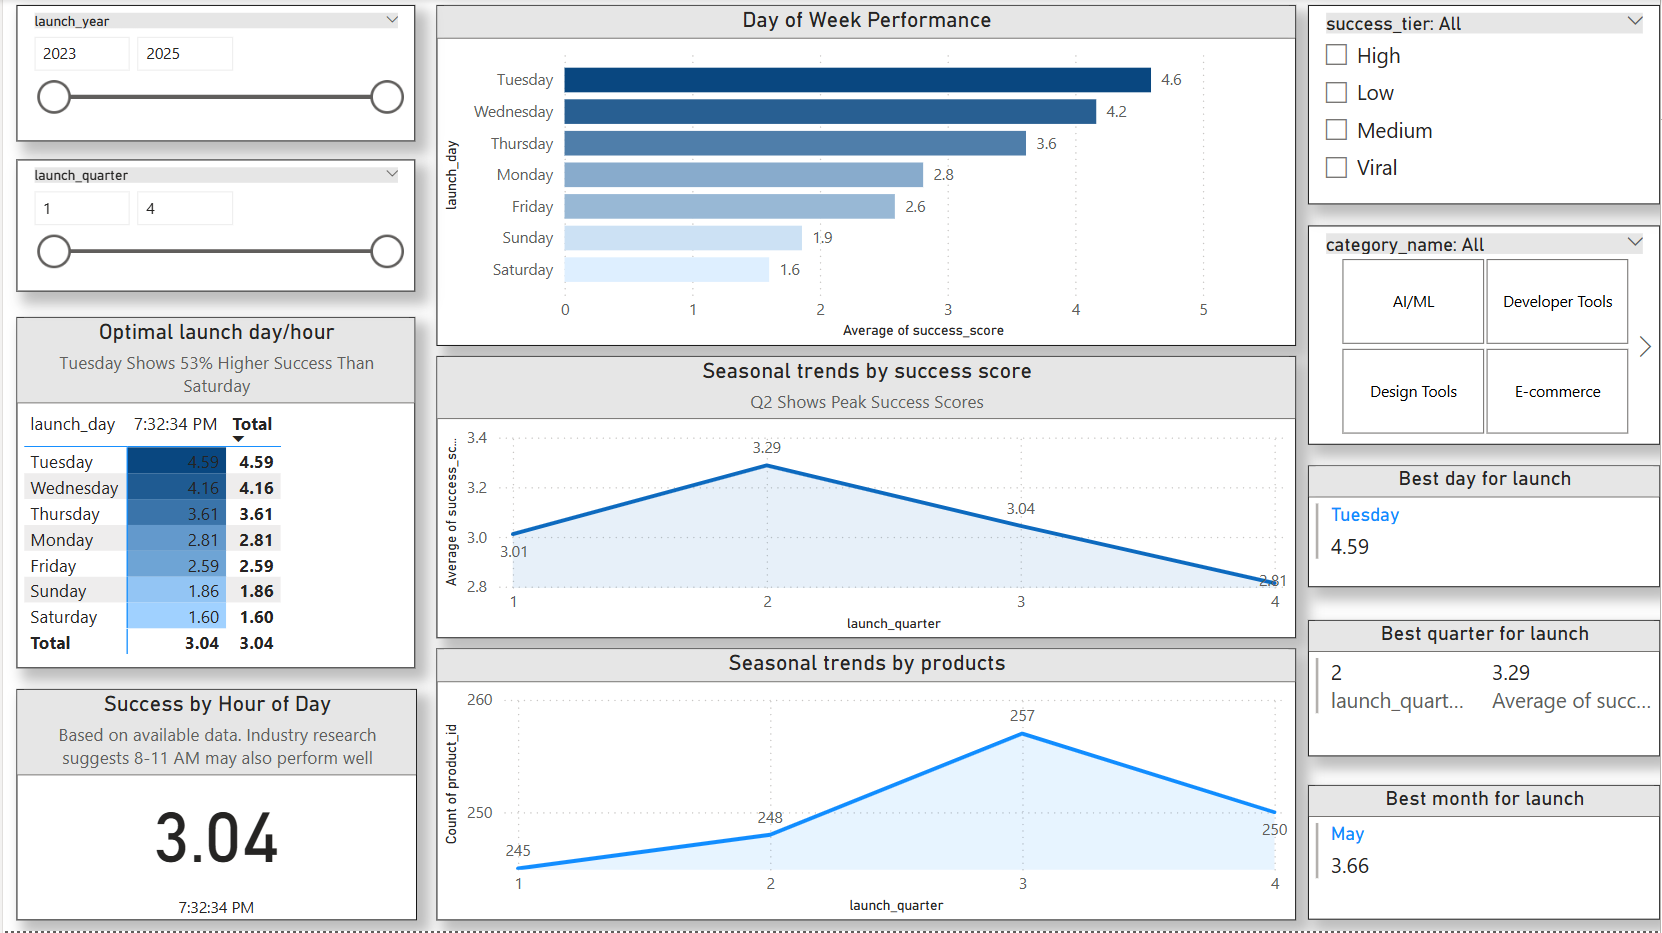

The dashboard page shown, as its layout file describes it:
{"tool":"powerbi","page":{"name":"LAUNCH OPTIMAIZATION","canvas":[1280,720],"ordinal":0},"visuals":[{"type":"pivotTable","title":"Optimal launch day/hour","fields":{"Rows":["Optimal_launchtime.launch_day"],"Values":["Avg(Optimal_launchtime.success_score)"],"Columns":["Optimal_launchtime.launch_hour"]},"box":[10.4,245.7,308.2,271.1],"z":0},{"type":"kpi","title":"Success by Hour of Day","fields":{"Indicator":["Avg(Optimal_launchtime.success_score)"],"TrendLine":["Optimal_launchtime.launch_hour"]},"box":[10.4,533,309.4,178.4],"z":1000},{"type":"barChart","title":"Day of Week Performance","fields":{"Y":["Avg(Optimal_launchtime.success_score)"],"Category":["Optimal_launchtime.launch_day"]},"box":[334.9,4.6,664,263],"z":2000},{"type":"lineChart","title":"Seasonal trends by success score","fields":{"Category":["Optimal_launchtime.launch_quarter"],"Y":["Avg(Optimal_launchtime.success_score)"]},"box":[334.9,275.8,664,217.8],"z":3000},{"type":"slicer","fields":{"Values":["Optimal_launchtime.category_name"]},"box":[1008.1,175,272.3,169.2],"z":4000},{"type":"slicer","fields":{"Values":["Optimal_launchtime.success_tier"]},"box":[1008.1,4.6,272.3,154.1],"z":5000},{"type":"slicer","fields":{"Values":["Optimal_launchtime.launch_year"]},"box":[10.4,4.6,308.2,105.4],"z":6000},{"type":"slicer","fields":{"Values":["Optimal_launchtime.launch_quarter"]},"box":[10.4,124,308.2,102],"z":7000},{"type":"lineChart","title":"Seasonal trends by products","fields":{"Y":["CountNonNull(Optimal_launchtime.product_id)"],"Category":["Optimal_launchtime.launch_quarter"]},"box":[334.9,501.7,664,209.7],"z":8000},{"type":"multiRowCard","title":"Best day for launch","fields":{"Values":["Optimal_launchtime.launch_day","Avg(Optimal_launchtime.success_score)"]},"box":[1008.1,360.4,272.3,93.9],"z":9000},{"type":"multiRowCard","title":"Best quarter for launch","fields":{"Values":["Optimal_launchtime.launch_quarter","Avg(Optimal_launchtime.success_score)"]},"box":[1008.1,479.7,272.3,105.4],"z":10000},{"type":"multiRowCard","title":"Best month for launch","fields":{"Values":["Optimal_launchtime.launch_month","Avg(Optimal_launchtime.success_score)"]},"box":[1008.1,607.2,272.3,104.3],"z":11000}]}

Visuals, with their boxes in screenshot pixels (x1, y1, x2, y2), scaled from the page's 1280x720 canvas onto the 1662x933 screenshot:
"Optimal launch day/hour" pivotTable: (x1=14, y1=318, x2=414, y2=670)
"Success by Hour of Day" kpi: (x1=14, y1=691, x2=415, y2=922)
"Day of Week Performance" barChart: (x1=435, y1=6, x2=1297, y2=347)
"Seasonal trends by success score" lineChart: (x1=435, y1=357, x2=1297, y2=640)
slicer - Optimal_launchtime.category_name: (x1=1309, y1=227, x2=1661, y2=446)
slicer - Optimal_launchtime.success_tier: (x1=1309, y1=6, x2=1661, y2=206)
slicer - Optimal_launchtime.launch_year: (x1=14, y1=6, x2=414, y2=143)
slicer - Optimal_launchtime.launch_quarter: (x1=14, y1=161, x2=414, y2=293)
"Seasonal trends by products" lineChart: (x1=435, y1=650, x2=1297, y2=922)
"Best day for launch" multiRowCard: (x1=1309, y1=467, x2=1661, y2=589)
"Best quarter for launch" multiRowCard: (x1=1309, y1=622, x2=1661, y2=758)
"Best month for launch" multiRowCard: (x1=1309, y1=787, x2=1661, y2=922)
